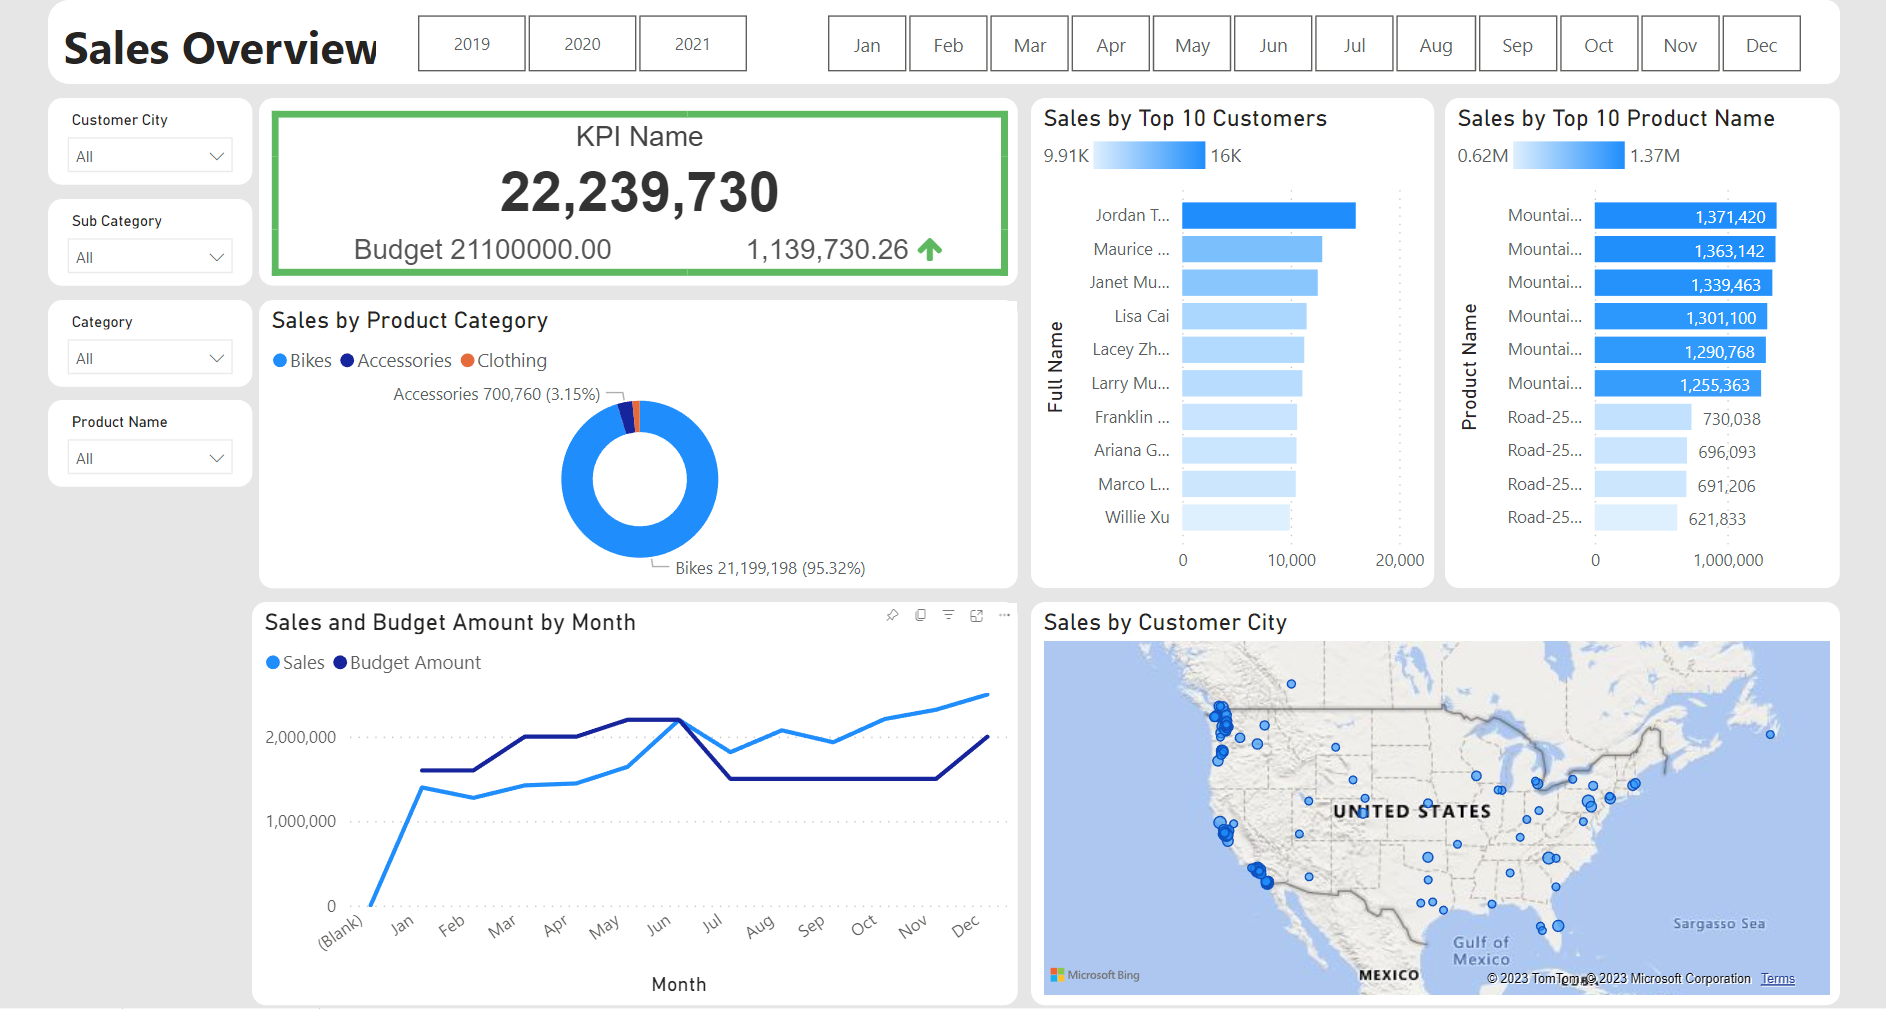

This screenshot's page, from the dashboard's own definition file:
{"tool":"powerbi","page":{"name":"Sales Overview","canvas":[1280,720],"ordinal":0},"visuals":[{"type":"textbox","box":[0,0,1280,60.3],"z":0},{"type":"slicer","fields":{"Values":["Dim_Customers.Customer City"]},"box":[0,70,145.9,62.2],"z":1000},{"type":"slicer","fields":{"Values":["Dim_Product.Sub Category"]},"box":[0,142,145.9,62.2],"z":2000},{"type":"slicer","fields":{"Values":["Dim_Product.Product Category"]},"box":[0,214,145.9,62.2],"z":3000},{"type":"slicer","fields":{"Values":["Dim_Product.Product Name"]},"box":[0,286,145.9,62.2],"z":4000},{"type":"slicer","fields":{"Values":["Dim_Calendar.Year"]},"box":[234.4,0,292.8,60.3],"z":5000},{"type":"slicer","fields":{"Values":["Dim_Calendar.MonthShort"]},"box":[527.2,0,752.8,60.3],"z":6000},{"type":"BBED0A4D4D8D44CE93CF2DAFADEE466C","fields":{"actual":["FACT_InternetSales.Sales"],"target1":["FACT_Budget.Budget Amount"],"target2":["Key Measures.Sales - Budget Amount"]},"box":[150.8,70,541.8,134.2],"z":7000},{"type":"donutChart","fields":{"Category":["Dim_Product.Product Category"],"Y":["Key Measures.Sales"]},"box":[150.8,214,541.8,206.2],"z":8000},{"type":"lineChart","fields":{"Category":["Dim_Calendar.MonthShort"],"Y":["Key Measures.Sales","Key Measures.Budget Amount"]},"box":[145.9,429.9,546.6,287.9],"z":9000},{"type":"barChart","title":"Sales by Top 10 Customers","fields":{"Y":["Key Measures.Sales"],"Category":["Dim_Customers.Full Name"]},"box":[702.2,70,287.9,350.2],"z":10000},{"type":"barChart","title":"Sales by Top 10 Product Name","fields":{"Y":["Key Measures.Sales"],"Category":["Dim_Product.Product Name"]},"box":[997.9,70,282.1,350.2],"z":11000},{"type":"map","fields":{"Category":["Dim_Customers.Customer City"],"Size":["Key Measures.Sales"]},"box":[702.2,429.9,577.8,287.9],"z":12000}]}

Visuals, with their boxes on the page's 1280x720 design canvas (x1, y1, x2, y2). These are canvas units, not pixel positions in the 1886x1009 screenshot, which may show the page scaled, cropped or inside an application window:
textbox: (0,0,1280,60)
slicer - Dim_Customers.Customer City: (0,70,146,132)
slicer - Dim_Product.Sub Category: (0,142,146,204)
slicer - Dim_Product.Product Category: (0,214,146,276)
slicer - Dim_Product.Product Name: (0,286,146,348)
slicer - Dim_Calendar.Year: (234,0,527,60)
slicer - Dim_Calendar.MonthShort: (527,0,1280,60)
BBED0A4D4D8D44CE93CF2DAFADEE466C - FACT_InternetSales.Sales x FACT_Budget.Budget Amount: (151,70,693,204)
donutChart - Dim_Product.Product Category x Key Measures.Sales: (151,214,693,420)
lineChart - Dim_Calendar.MonthShort x Key Measures.Sales: (146,430,692,718)
"Sales by Top 10 Customers" barChart: (702,70,990,420)
"Sales by Top 10 Product Name" barChart: (998,70,1280,420)
map - Dim_Customers.Customer City x Key Measures.Sales: (702,430,1280,718)
